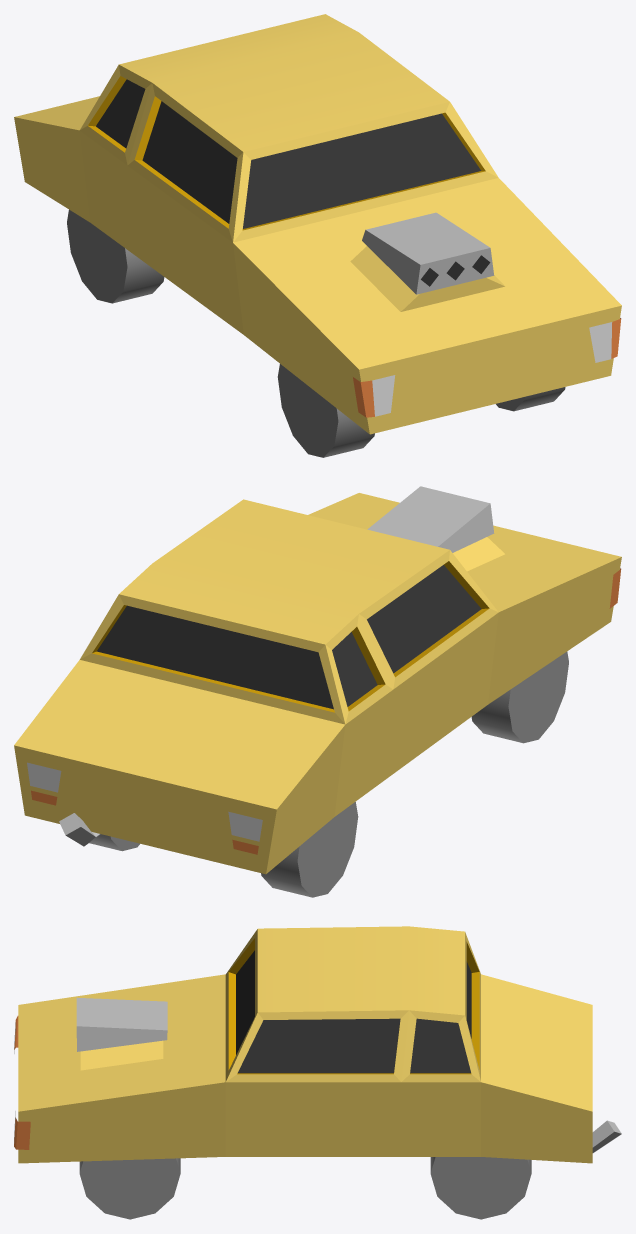
The model's file is musclecar_05.fbx.
3 renders of one model, top to bottom at view 1: azimuth 30°, elevation 25°; view 2: azimuth 150°, elevation 25°; view 3: azimuth 270°, elevation 25°, orthographic. The views are drawn at different scales.
Visible parts, largest first — view 1: musclecar_05; view 2: musclecar_05; view 3: musclecar_05.
Part boxes in pixels (x1,y1,x2,y2): musclecar_05: (14, 14, 621, 457); musclecar_05: (14, 486, 621, 897); musclecar_05: (14, 926, 621, 1219).
Bounding box in the file's own units: 1.6 × 1.41 × 3.81.
